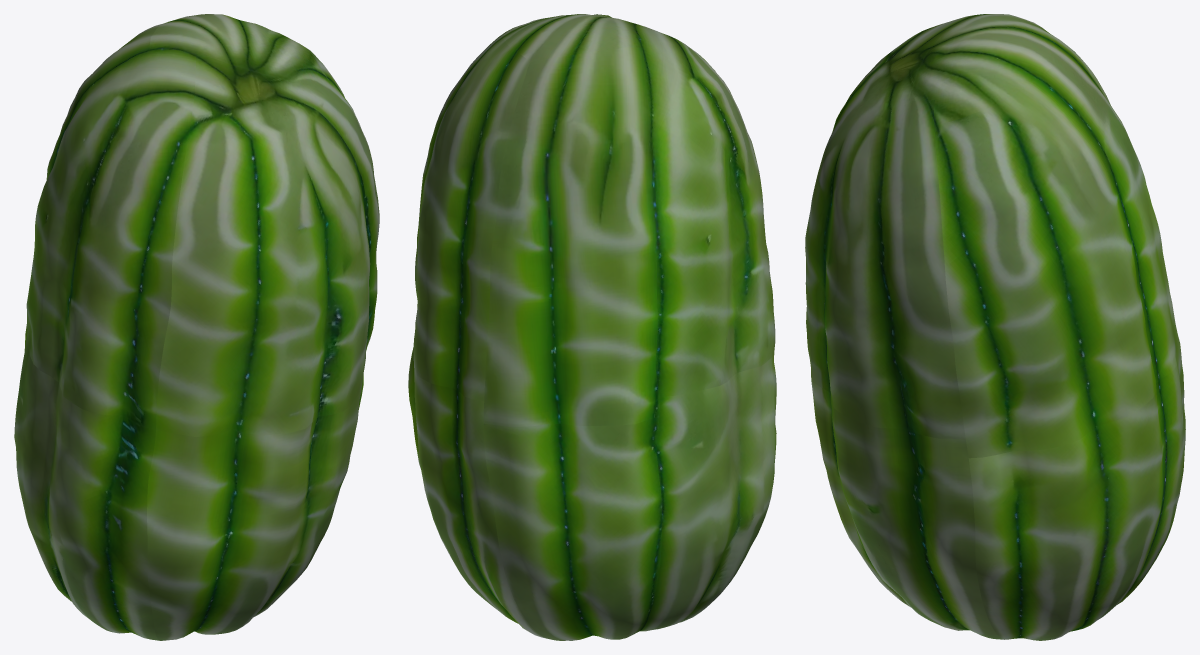
Rendered from gourd.glb.
The picture shows the model from 3 angles, left to right: view 1: azimuth 30°, elevation 25°; view 2: azimuth 150°, elevation 25°; view 3: azimuth 270°, elevation 25°; orthographic projection. The views are drawn at different scales.
Visible parts, largest first — view 1: geometry_0; view 2: geometry_0; view 3: geometry_0.
Part boxes in pixels (box(x1,y1,x2,y2)): geometry_0: box(14, 14, 379, 640); geometry_0: box(408, 14, 776, 640); geometry_0: box(805, 14, 1185, 640).
Bounding box in the file's own units: 0.5624 × 1 × 0.5804.
Materials: 1 (1 with a texture image).
